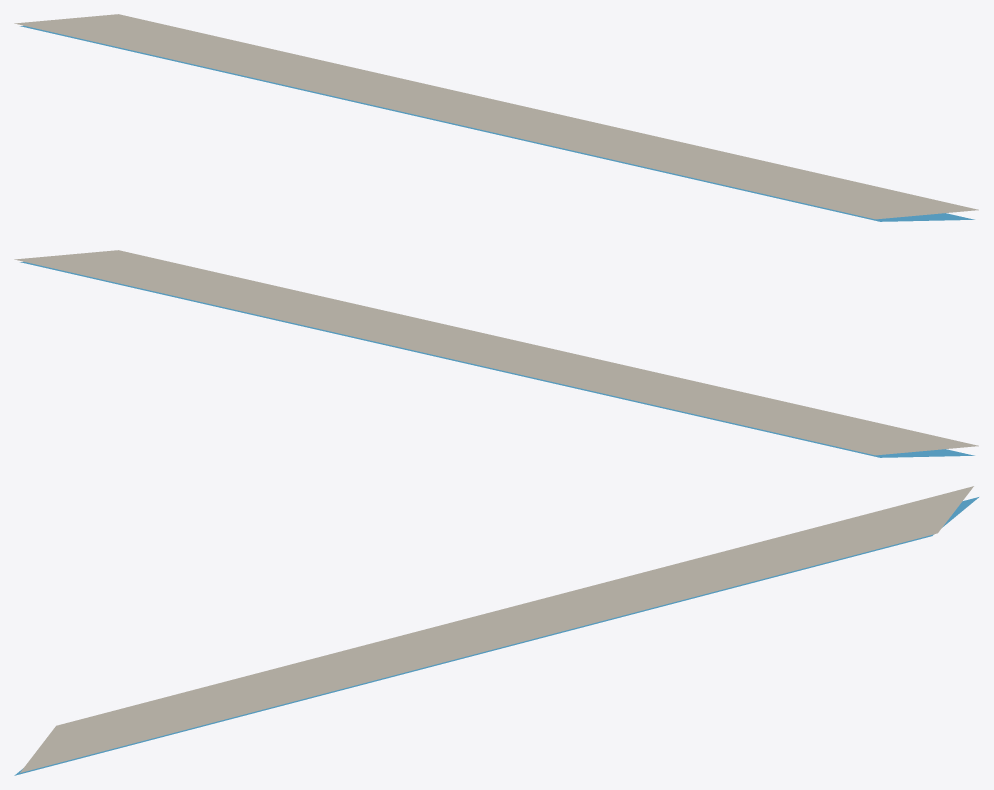
The picture shows the model from 3 angles, top to bottom: view 1: azimuth 30°, elevation 25°; view 2: azimuth 210°, elevation 25°; view 3: azimuth 270°, elevation 25°; orthographic projection. The views are drawn at different scales.
Visible parts, largest first — view 1: estructura_terreno, estructura_agua; view 2: estructura_terreno, estructura_agua; view 3: estructura_terreno, estructura_agua.
Boxes of the visible parts, x1,y1,x2,y2 form: estructura_terreno: (14,14,978,219); estructura_agua: (20,25,974,221); estructura_terreno: (14,250,978,455); estructura_agua: (20,261,974,457); estructura_terreno: (20,486,973,772); estructura_agua: (14,497,978,775).
Bounding box in the file's own units: 37.45 × 0.41 × 53.25.
